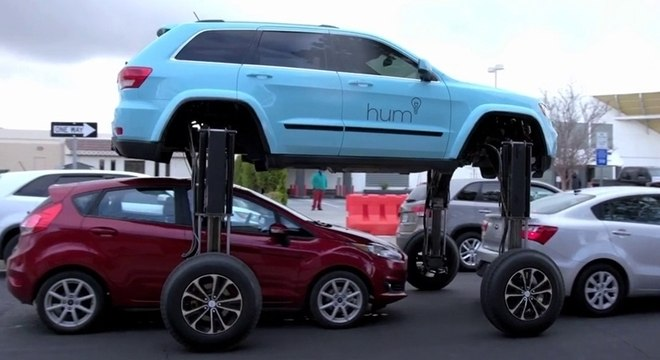Carro: (113, 18, 562, 173), (17, 181, 410, 330), (478, 182, 660, 319), (393, 176, 575, 271)
